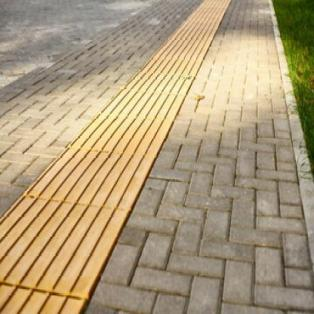Podoctatil: (0, 0, 252, 314)
